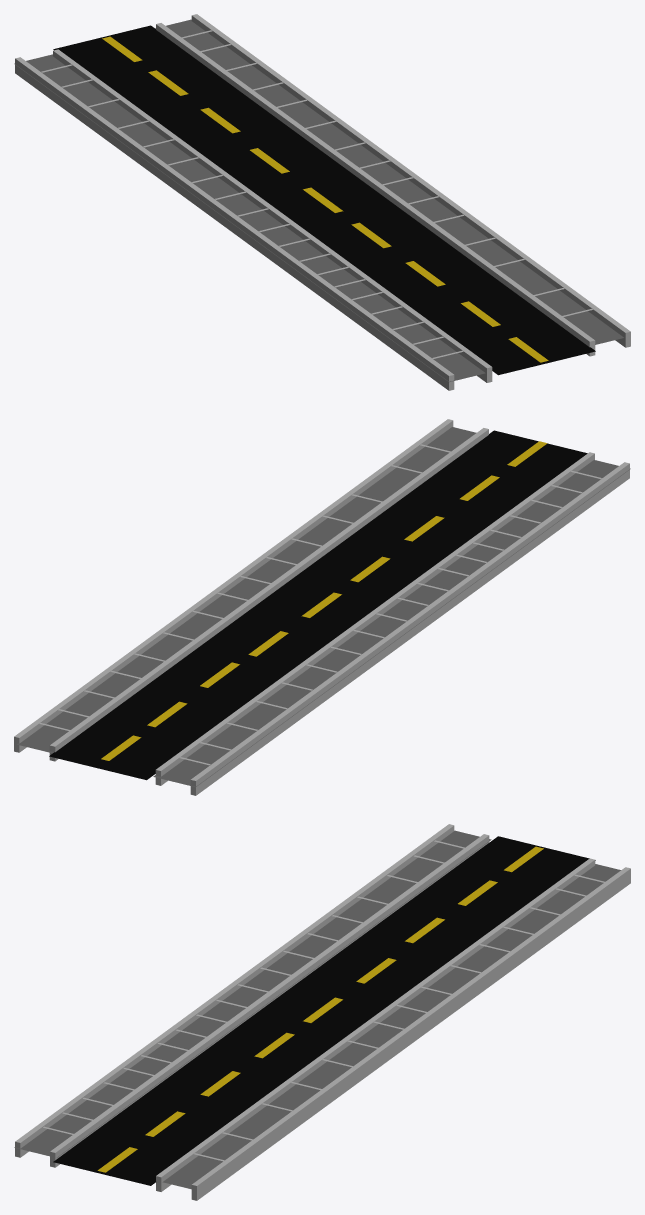
Rendered from road.obj.
The picture shows the model from 3 angles, top to bottom: view 1: azimuth 30°, elevation 25°; view 2: azimuth 150°, elevation 25°; view 3: azimuth 330°, elevation 25°; orthographic projection.
Visible parts, largest first — view 1: Plane1, Plane2, Plane, Box1, Box4, Box5, Box2; view 2: Plane1, Plane2, Plane, Box1, Box4, Box5, Box2; view 3: Plane1, Plane2, Plane, Box5, Box2, Box4, Box1.
Boxes of the visible parts, left/top/right/bottom form: Plane1: left=53, top=25, right=595, bottom=375; Plane2: left=14, top=54, right=485, bottom=382; Plane: left=155, top=19, right=623, bottom=344; Box1: left=15, top=57, right=454, bottom=390; Box4: left=156, top=23, right=595, bottom=356; Box5: left=191, top=14, right=630, bottom=347; Box2: left=53, top=49, right=492, bottom=382; Plane1: left=49, top=430, right=587, bottom=780; Plane2: left=153, top=460, right=630, bottom=787; Plane: left=17, top=427, right=476, bottom=753; Box1: left=190, top=462, right=629, bottom=795; Box4: left=49, top=428, right=488, bottom=761; Box5: left=14, top=419, right=453, bottom=752; Box2: left=155, top=452, right=594, bottom=785; Plane1: left=53, top=836, right=595, bottom=1185; Plane2: left=14, top=830, right=491, bottom=1157; Plane: left=162, top=864, right=620, bottom=1189; Box5: left=191, top=867, right=630, bottom=1200; Box2: left=50, top=834, right=489, bottom=1167; Box4: left=156, top=858, right=595, bottom=1191; Box1: left=15, top=824, right=454, bottom=1157.
Size of the model in its own units: 7.77 by 0.6046 by 32.84.
